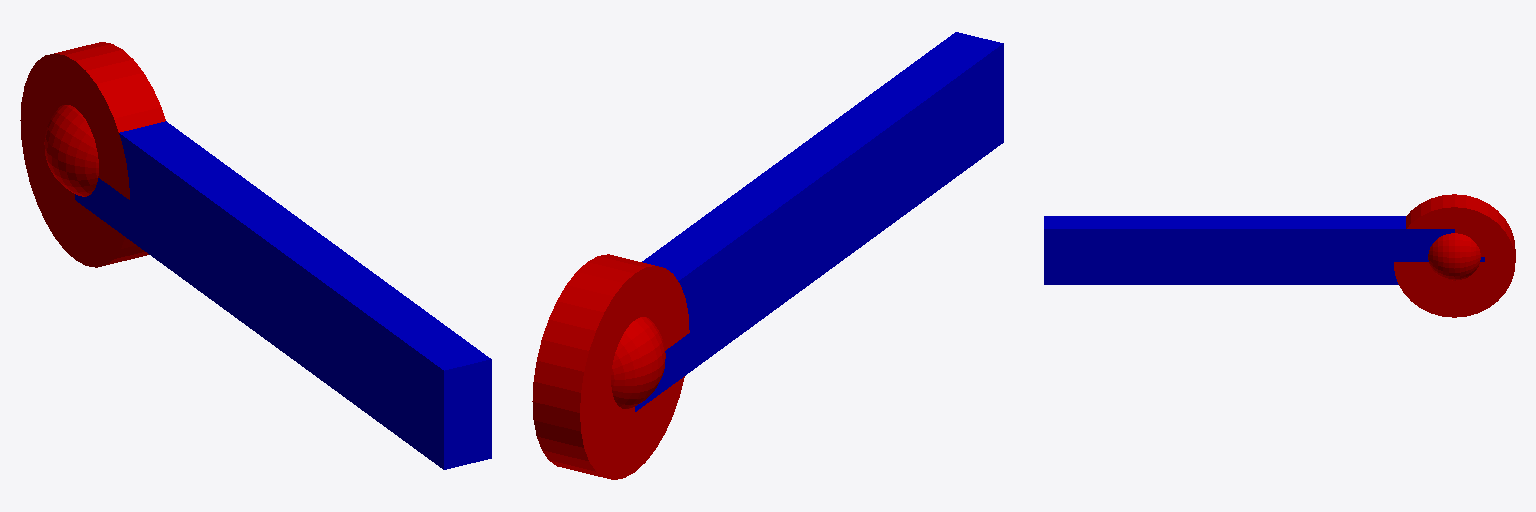
robot.urdf — TwoLinkStruct3628167164:
<?xml version="1.0"?>
<robot  name="TwoLinkStruct3628167164" >
 <material  name="blue" >
  <color  rgba="0 0 0.8 1.0" />
 </material>
 <material  name="red" >
  <color  rgba="0.8 0 0 1.0" />
 </material>
 <link  name="base_link" >
  <visual >
   <origin  rpy="0 1.5707 0"  xyz="0 0 0" />
   <material  name="red" />
   <geometry >
    <cylinder  length="0.05"  radius="0.1" />
   </geometry>
  </visual>
 </link>
 <joint  type="revolute"  name="joint1" >
  <parent  link="base_link" />
  <child  link="link1" />
  <origin  xyz="0 0 0"  rpy="0 0 0" />
  <axis  xyz="1 0 0" />
 </joint>
 <link  name="link1" >
  <inertial >
   <origin  rpy="0 0 0"  xyz="0 0 0.005" />
   <mass  value="0.03376798391342163" />
   <inertia  ixy="0.0"  iyy="1.4069993297259015e-05"  izz="7.316396514574687e-06"  ixz="0.0"  ixx="7.316396514574687e-06"  iyz="0.0" />
  </inertial>
  <visual >
   <origin  rpy="0 0 0"  xyz="0 0 0.005" />
   <material  name="blue" />
   <geometry >
    <box  size="0.05 0.1 0.01" />
   </geometry>
  </visual>
 </link>
 <joint  type="fixed"  name="joint-joint-1" >
  <parent  link="link1" />
  <child  link="joint-link-1" />
  <origin  xyz="0 0 0.01"  rpy="1.5707 0 0" />
  <axis  xyz="1 0 0" />
 </joint>
 <link  name="joint-link-1" >
  <inertial >
   <origin  rpy="0 0 0"  xyz="0 0 0" />
   <mass  value="1.9456845505834022" />
   <inertia  ixy="0"  iyy="0"  izz="0"  ixz="0"  ixx="0"  iyz="0" />
  </inertial>
  <visual >
   <origin  rpy="0 0 0"  xyz="0 0 0" />
   <material  name="red" />
   <geometry >
    <sphere  radius="0.05" />
   </geometry>
  </visual>
 </link>
 <joint  type="revolute"  name="joint2" >
  <parent  link="link1" />
  <child  link="link2" />
  <origin  xyz="0 0 0.01"  rpy="1.5707 0 0" />
  <axis  xyz="1 0 0" />
 </joint>
 <link  name="link2" >
  <inertial >
   <origin  rpy="0 0 0"  xyz="0 0 0.3361573131153205" />
   <mass  value="1.7884661225335987" />
   <inertia  ixy="0.0"  iyy="1.4069993297259015e-05"  izz="0.0012789819667067398"  ixz="0.0"  ixx="0.0012789819667067398"  iyz="0.0" />
  </inertial>
  <visual >
   <origin  rpy="0 0 0"  xyz="0 0 0.3361573131153205" />
   <material  name="blue" />
   <geometry >
    <box  size="0.05 0.1 0.672314626230641" />
   </geometry>
  </visual>
 </link>
 <joint  type="fixed"  name="eef_joint" >
  <parent  link="link2" />
  <child  link="eef" />
  <origin  xyz="0 0 0.672314626230641"  rpy="0 0 0" />
 </joint>
 <link  name="eef" >
  <inertial >
   <origin  rpy="0 0 0"  xyz="0 0 0" />
   <mass  value="1" />
   <inertia  ixy="0"  iyy="0"  izz="0"  ixz="0"  ixx="0"  iyz="0" />
  </inertial>
 </link>
 <transmission  name="motor1" >
  <type  xmltext="SimpleTransmission" >
   SimpleTransmission
  </type>
  <actuator  name="motor1" >
   <mechanicalreduction  xmltext="1" >
    1
   </mechanicalreduction>
  </actuator>
  <joint  name="joint1" />
 </transmission>
 <transmission  name="motor2" >
  <type  xmltext="SimpleTransmission" >
   SimpleTransmission
  </type>
  <actuator  name="motor2" >
   <mechanicalreduction  xmltext="1" >
    1
   </mechanicalreduction>
  </actuator>
  <joint  name="joint2" />
 </transmission>
</robot>

<!-- {'carti': array([-0.1 ,  0.14,  0.85]), 'cartd': array([-0.1 ,  0.32,  1.29]), 'tau_mu': 0.8817191351576367, 'b0': 0.0, 'Km': 2.668840752470212, 'k_velocity': 65.7773150049218, 'tau_max_m': 2.353478134231088, 'omega_max_m': 4197.115648073443, 'gear_ratio': 10.371308195437026, 'Kp': 17.277138932270372, 'Kd': 15.397645914147418, 'm_m': 1.9456845505834022, 'l1': 0.01, 'l2': 0.672314626230641, 'k1': 12709.056923975892, 'k2': 275476149.1244173, 'k3': 254230266.29668468}-->

--- Render facts (derived) ---
The picture shows the robot from 3 angles, left to right: view 1: azimuth 30°, elevation 25°; view 2: azimuth 150°, elevation 25°; view 3: azimuth 270°, elevation 25°; orthographic projection.
Robot: TwoLinkStruct3628167164 — 5 links, 4 joints (2 revolute, 2 fixed); root link base_link; default pose: every joint at zero.
Links seen in each view (by area): view 1: link2, base_link, joint-link-1; view 2: link2, base_link, joint-link-1; view 3: link2, base_link, joint-link-1.
Boxes of the visible links, x1,y1,x2,y2 form: link2: [75, 121, 491, 469]; base_link: [20, 42, 165, 267]; joint-link-1: [44, 105, 98, 196]; link2: [635, 32, 1003, 411]; base_link: [532, 254, 689, 479]; joint-link-1: [611, 317, 665, 408]; link2: [1044, 216, 1454, 284]; base_link: [1394, 194, 1515, 317]; joint-link-1: [1428, 233, 1480, 280].
Bounding box of the posed robot: 0.1 × 0.7723 × 0.2 m (x, y, z).
Geometry: primitives only (box / cylinder / sphere), no mesh files.
